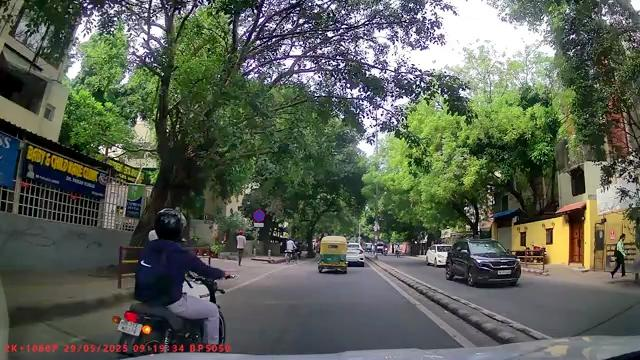motorcycle_with_helmet: (114, 207, 232, 351)
